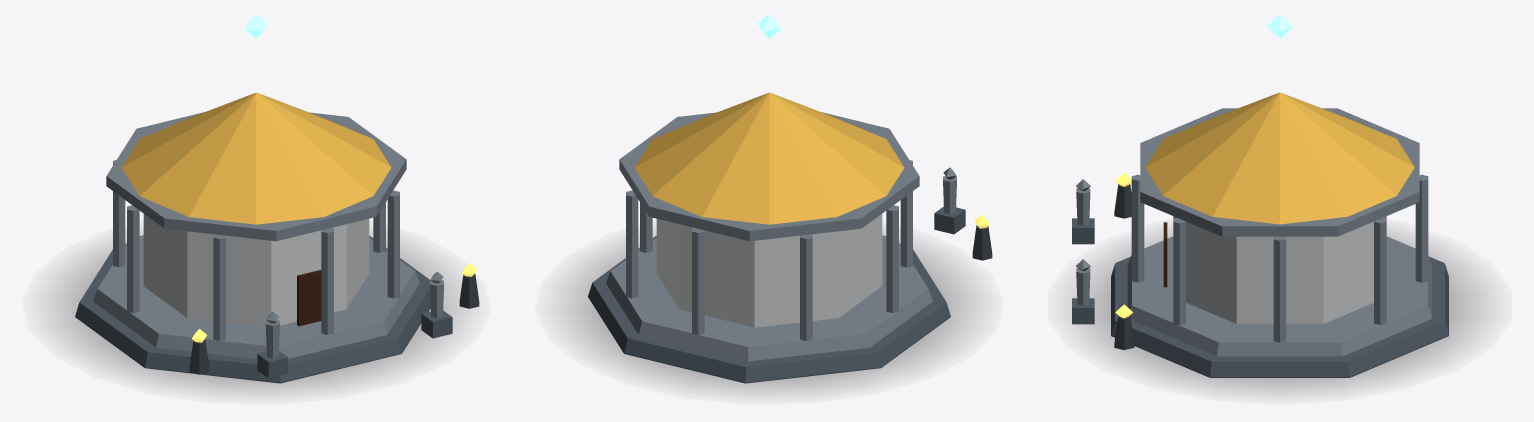
Rendered from hero_hall_t2.glb.
3 renders of one model, left to right at view 1: azimuth 30°, elevation 25°; view 2: azimuth 150°, elevation 25°; view 3: azimuth 270°, elevation 25°, orthographic.
Visible parts, largest first — view 1: hero_hall_t2; view 2: hero_hall_t2; view 3: hero_hall_t2.
Boxes of the visible parts, <box> form: hero_hall_t2: <box>51,14,479,392</box>; hero_hall_t2: <box>564,14,992,392</box>; hero_hall_t2: <box>1072,14,1483,392</box>.
Size of the model in its own units: 10.64 by 7.09 by 10.53.
